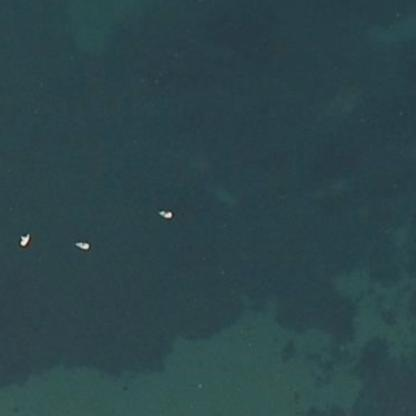ship: (154, 204, 176, 224), (16, 224, 32, 250), (71, 235, 92, 252)
